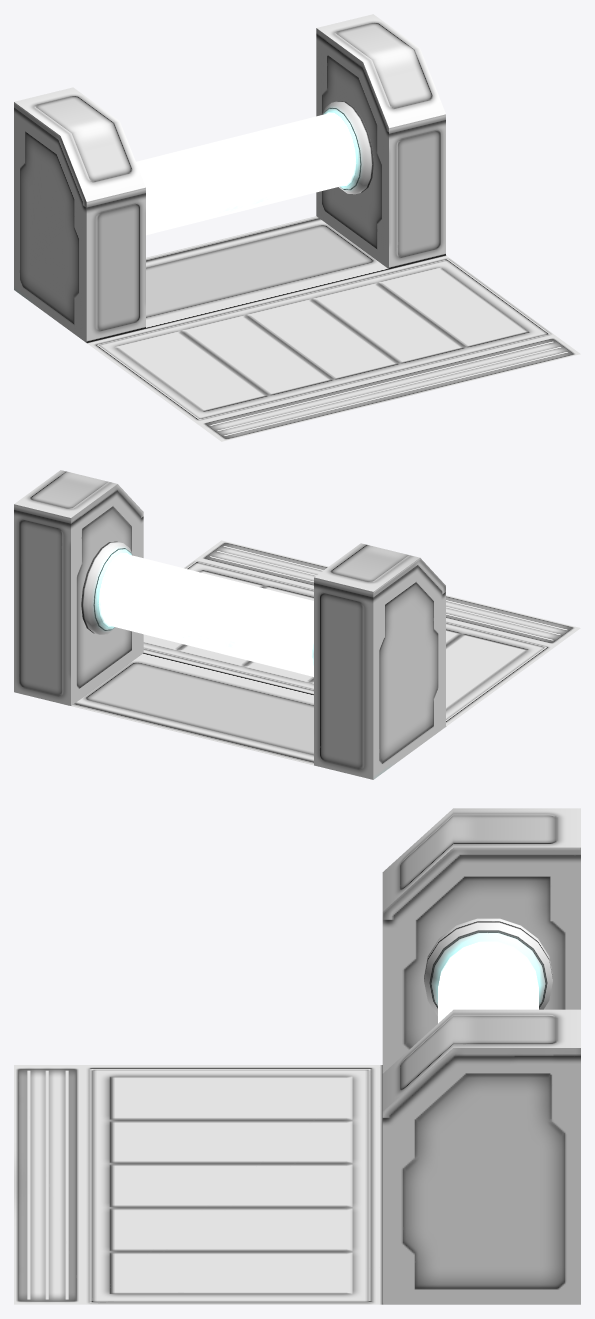
File: Sect_Floor_8.FBX
3 renders of one model, top to bottom at view 1: azimuth 30°, elevation 25°; view 2: azimuth 150°, elevation 25°; view 3: azimuth 270°, elevation 25°, orthographic. The views are drawn at different scales.
Parts seen in each view (by area): view 1: Floor_8, Floor_8_Tube; view 2: Floor_8, Floor_8_Tube; view 3: Floor_8, Floor_8_Tube.
Part boxes in pixels (x1,y1,x2,y2): Floor_8: (14,14,580,441); Floor_8_Tube: (136,101,373,235); Floor_8: (14,470,580,779); Floor_8_Tube: (81,541,313,676); Floor_8: (14,808,580,1304); Floor_8_Tube: (424,918,552,1023).
Bounding box in the file's own units: 4 × 2 × 4.
